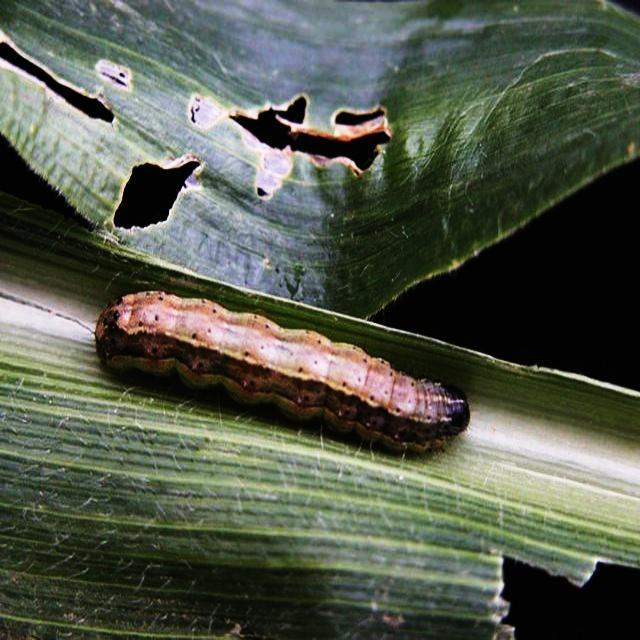gusano_cogollero: (92, 285, 470, 458)
